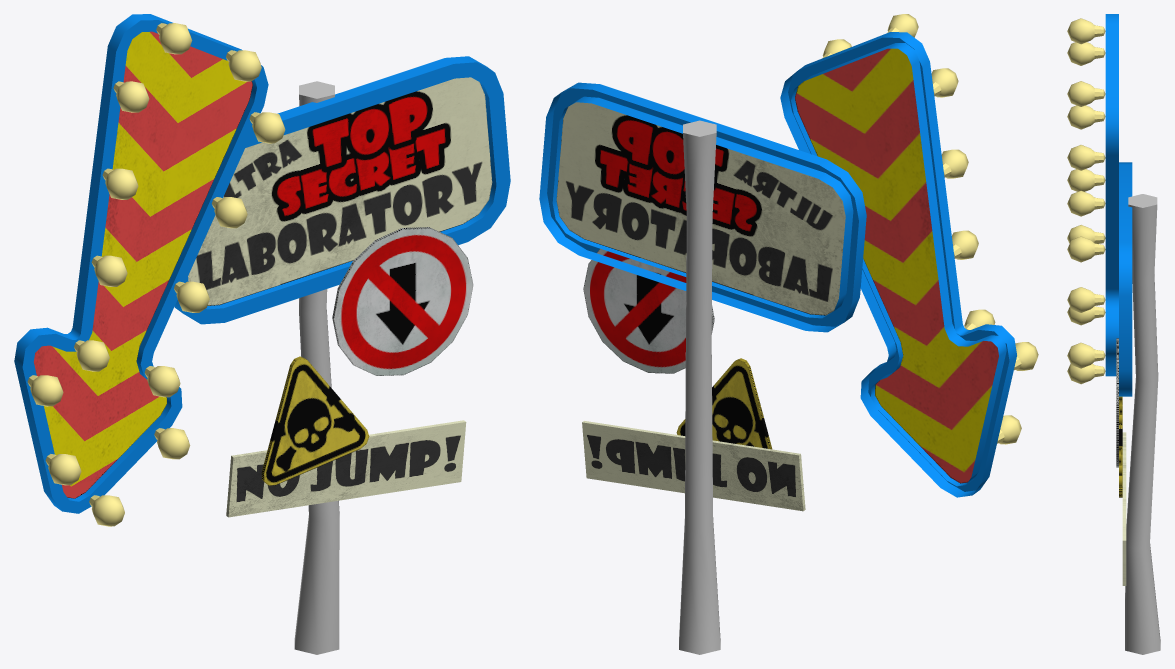
Rendered from Cartel Warning.FBX.
3 renders of one model, left to right at view 1: azimuth 30°, elevation 25°; view 2: azimuth 150°, elevation 25°; view 3: azimuth 270°, elevation 25°, orthographic. The views are drawn at different scales.
Visible parts, largest first — view 1: Cartel WARNING; view 2: Cartel WARNING; view 3: Cartel WARNING.
Part boxes in pixels (x1,y1,x2,y2): Cartel WARNING: [14, 14, 510, 654]; Cartel WARNING: [539, 14, 1038, 654]; Cartel WARNING: [1067, 14, 1160, 654].
Size of the model in its own units: 351 by 463 by 70.45.
